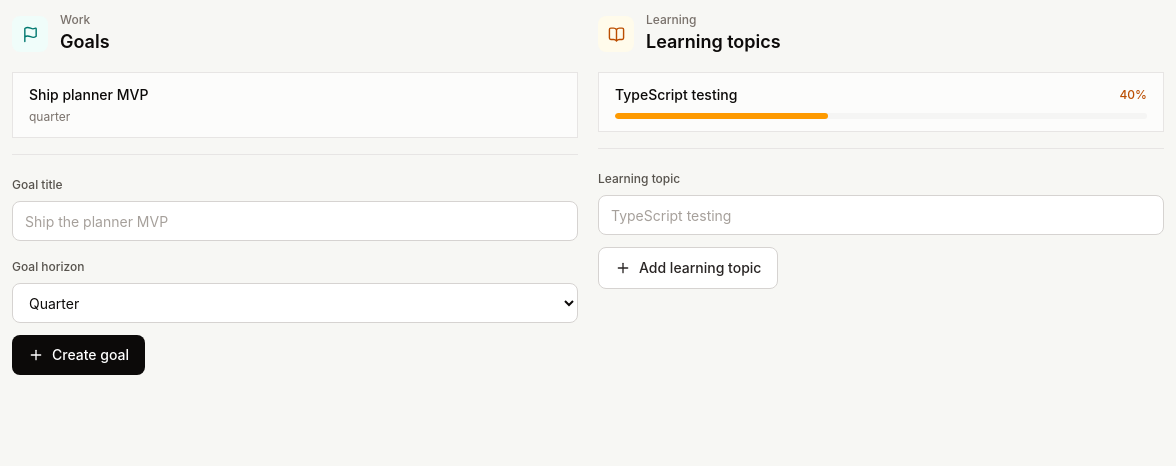
Test case: GoalsWorkspace › loads, creates, and displays work goals and learning topics
The image size is (1176, 466).
Expected: the text "Ship planner MVP" is shown, [29,86,148,103]
Expected: the text "TypeScript testing" is shown, [615,85,737,105]
In the field labelled "Goal title": {"x": 295, "y": 221} [12,201,578,241], type " Improve planning "
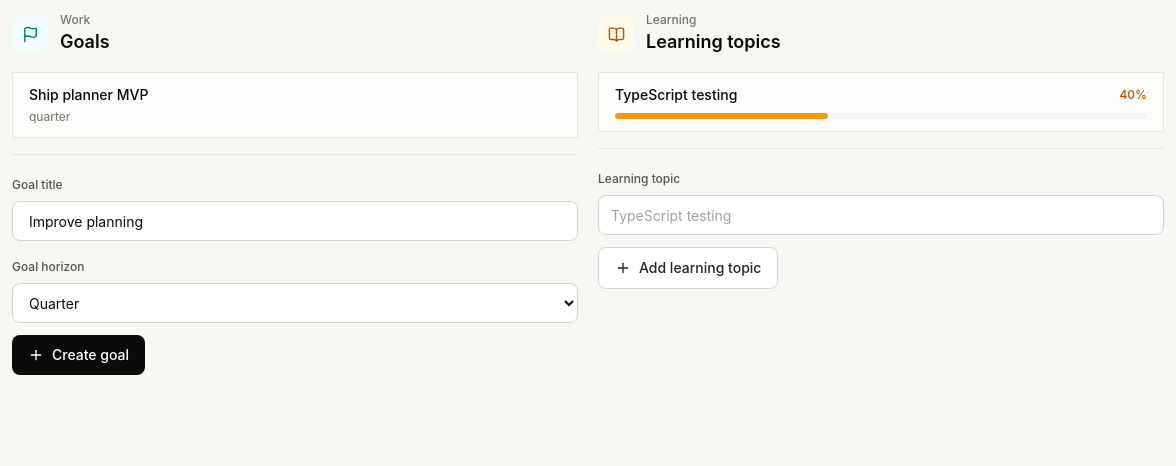
Select "Month" in the dropdown labelled "Goal horizon": {"x": 295, "y": 303} [12,283,578,323]
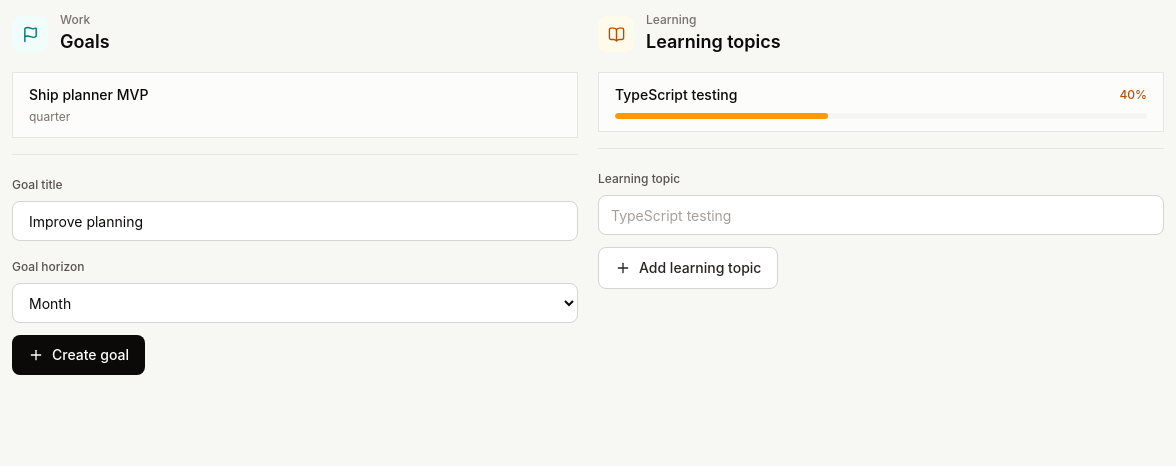
Click the button "Create goal": {"x": 79, "y": 355} [12,335,145,375]
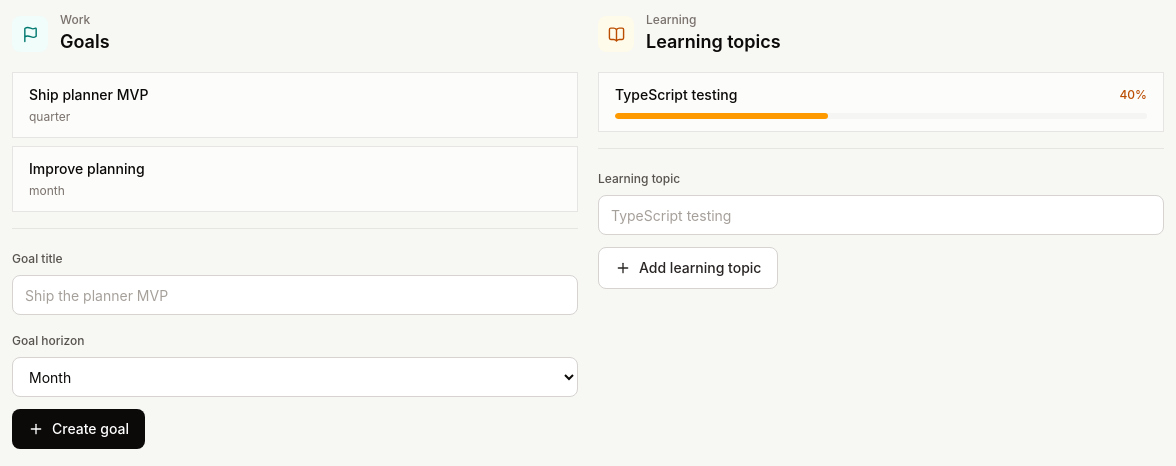
Expected: the text "Improve planning" is shown, [29,160,145,177]
In the field labelled "Learning topic": {"x": 881, "y": 215} [598,195,1164,235], type " Vitest fundamentals "
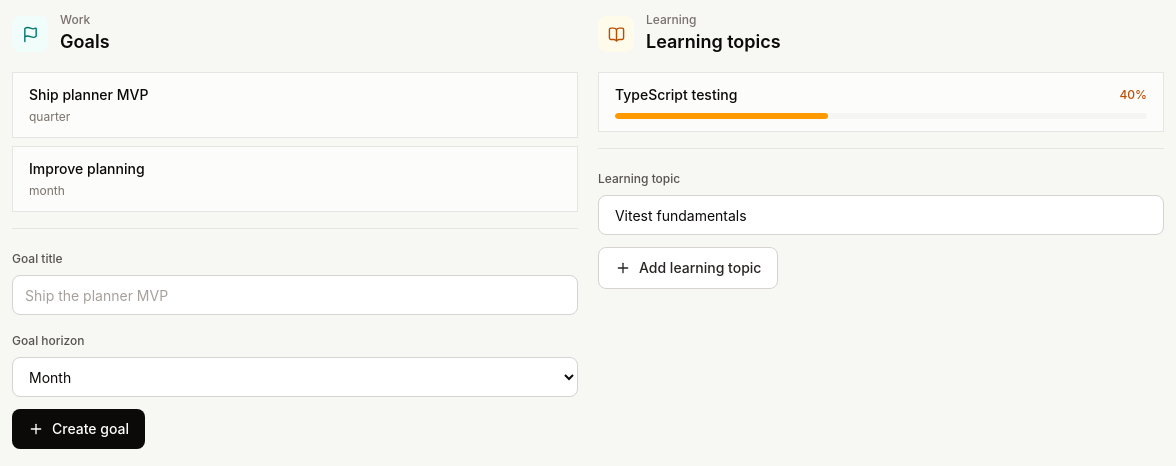
Click the button "Add learning topic": {"x": 688, "y": 268} [598,247,778,289]
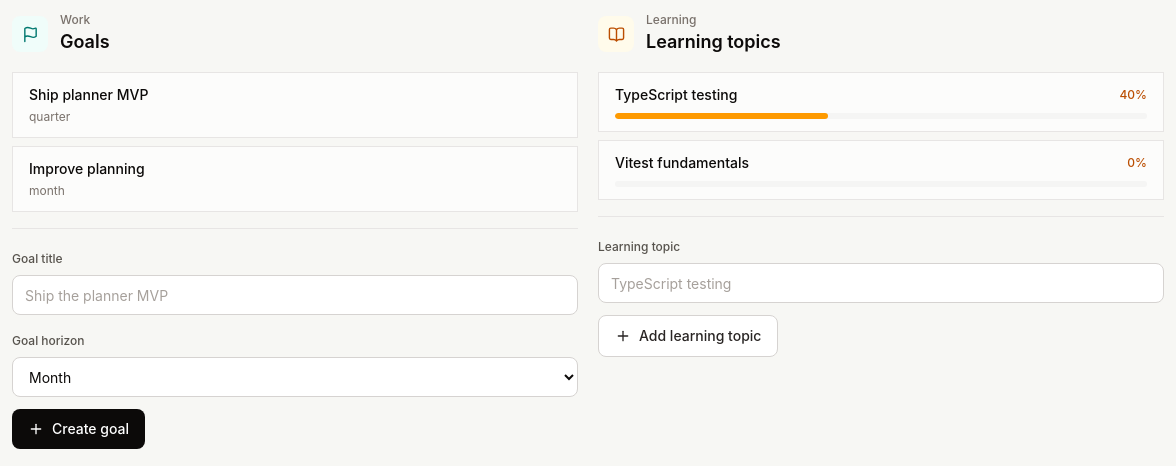
Expected: the text "Vitest fundamentals" is shown, [615,153,749,173]
